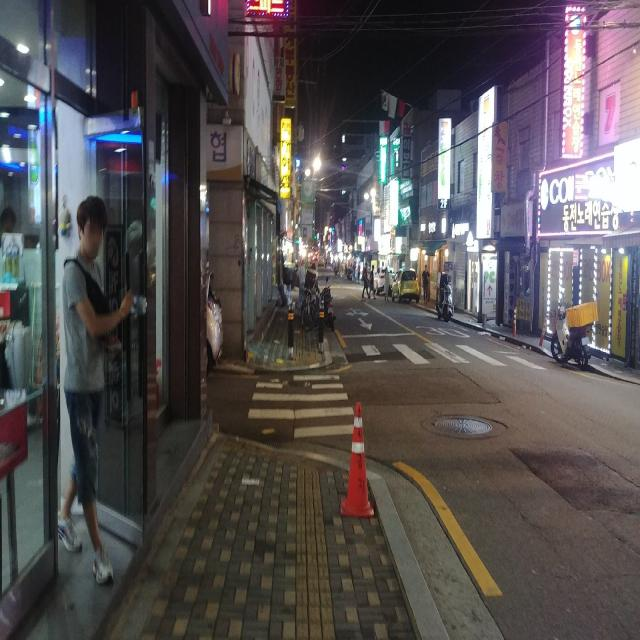횡단보도: (359, 338, 549, 375), (248, 375, 354, 438)
